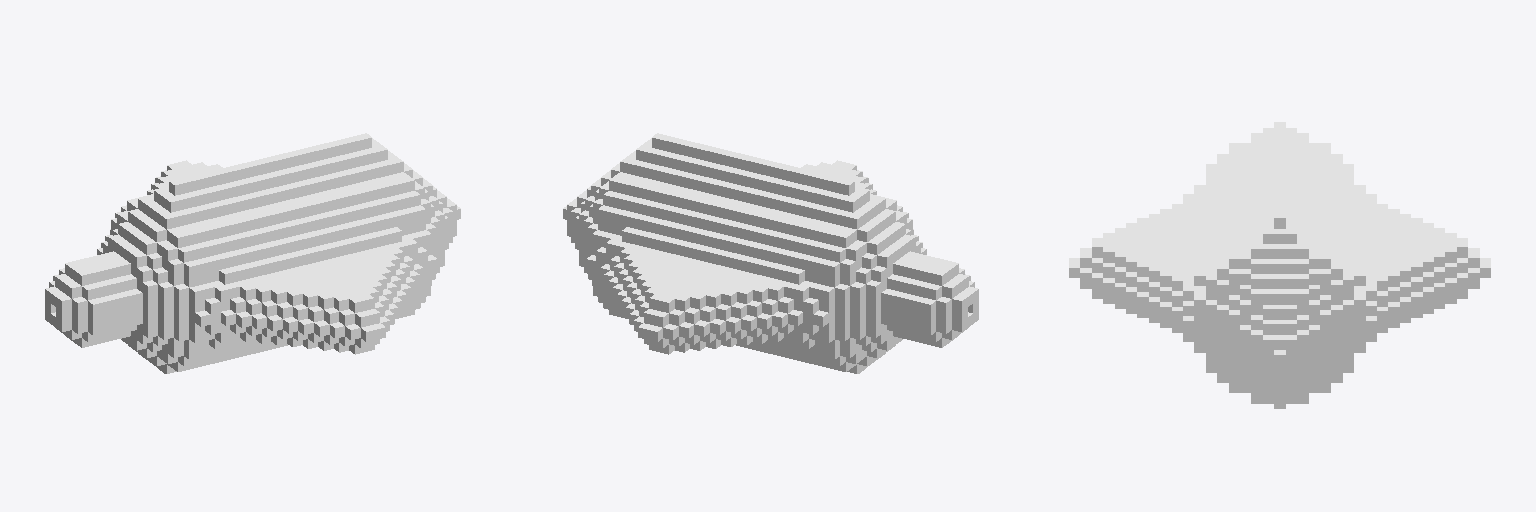
The model's file is Ship_2.obj.
3 views of the same model, side by side, from view 1: azimuth 30°, elevation 25°; view 2: azimuth 150°, elevation 25°; view 3: azimuth 270°, elevation 25° (orthographic).
Visible parts, largest first — view 1: object 1; view 2: object 1; view 3: object 1.
Part boxes in pixels (bbox=[...]): object 1: bbox=[45, 133, 460, 373]; object 1: bbox=[563, 133, 978, 373]; object 1: bbox=[1069, 122, 1490, 408].
Bounding box in the file's own units: 4.1 × 1.8 × 3.7.